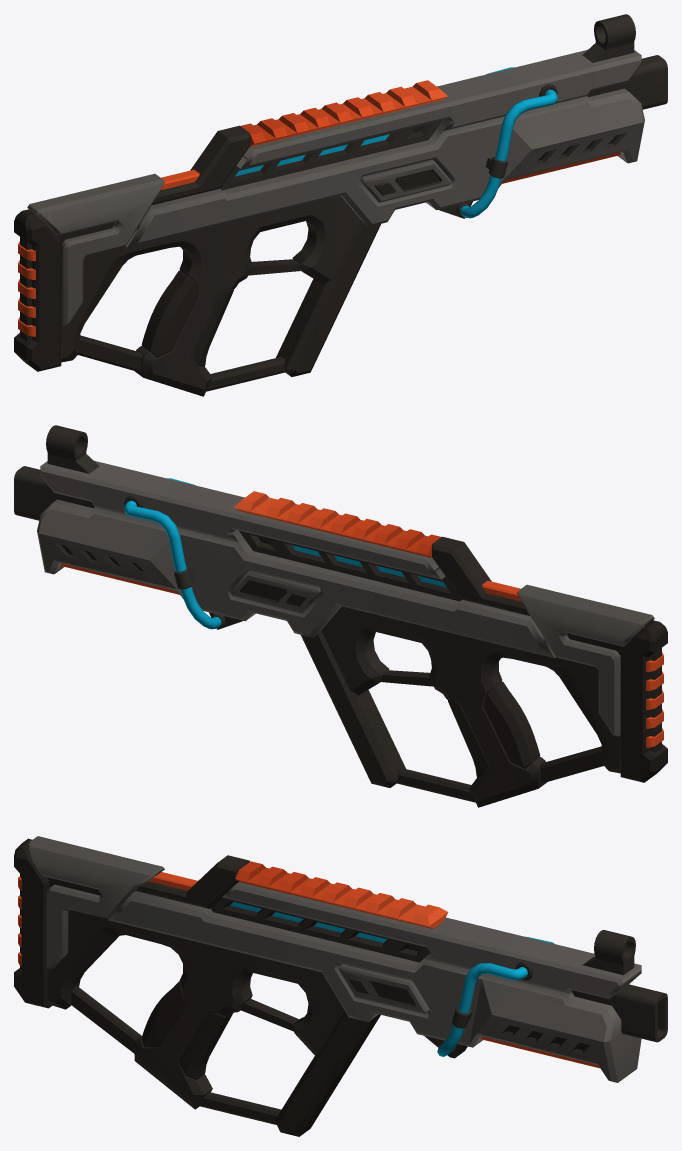
The model's file is SMG10_Base.fbx.
3 renders of one model, top to bottom at view 1: azimuth 30°, elevation 25°; view 2: azimuth 150°, elevation 25°; view 3: azimuth 330°, elevation 25°, orthographic.
Visible parts, largest first — view 1: SMG10_Base; view 2: SMG10_Base; view 3: SMG10_Base.
Part boxes in pixels (x1,y1,x2,y2): SMG10_Base: [14, 14, 667, 396]; SMG10_Base: [14, 425, 667, 807]; SMG10_Base: [14, 836, 667, 1136].
Size of the model in its own units: 50.89 by 20.8 by 6.19.
